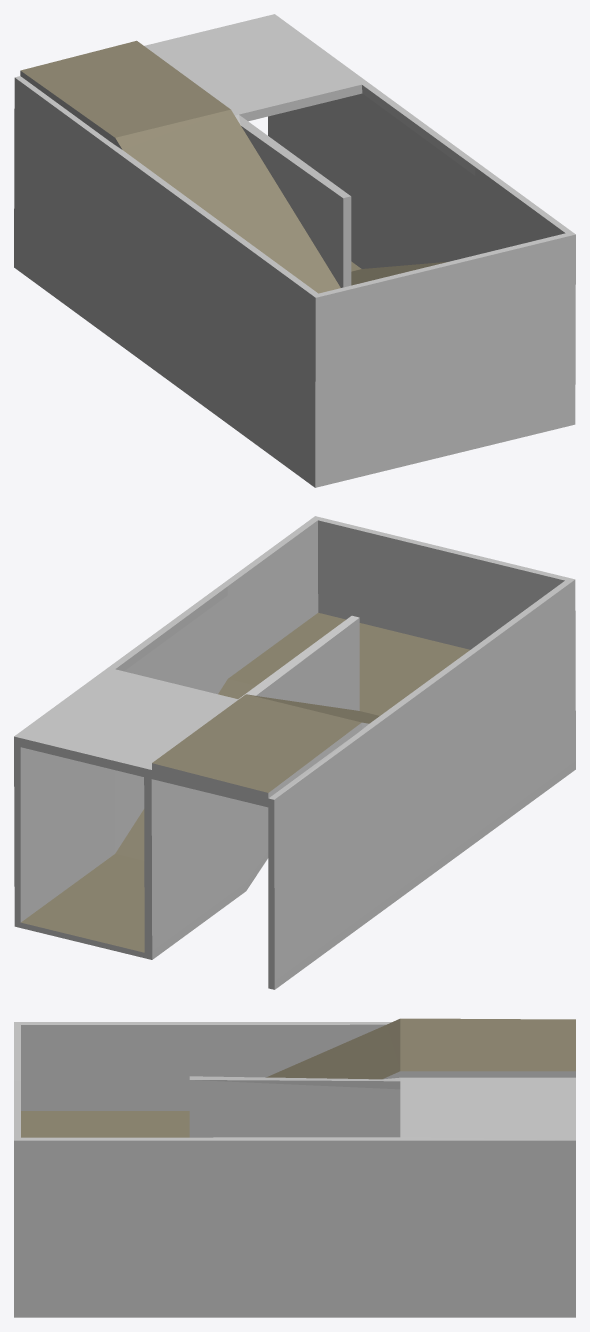
Rendered from Stairs.fbx.
The picture shows the model from 3 angles, top to bottom: view 1: azimuth 30°, elevation 25°; view 2: azimuth 150°, elevation 25°; view 3: azimuth 270°, elevation 25°; orthographic projection. The views are drawn at different scales.
Visible parts, largest first — view 1: Cube; view 2: Cube; view 3: Cube.
Boxes of the visible parts, left/top/right/bottom form: Cube: left=14, top=14, right=575, bottom=487; Cube: left=14, top=516, right=575, bottom=989; Cube: left=14, top=1018, right=575, bottom=1317.
Bounding box in the file's own units: 1000 × 722 × 2000.
